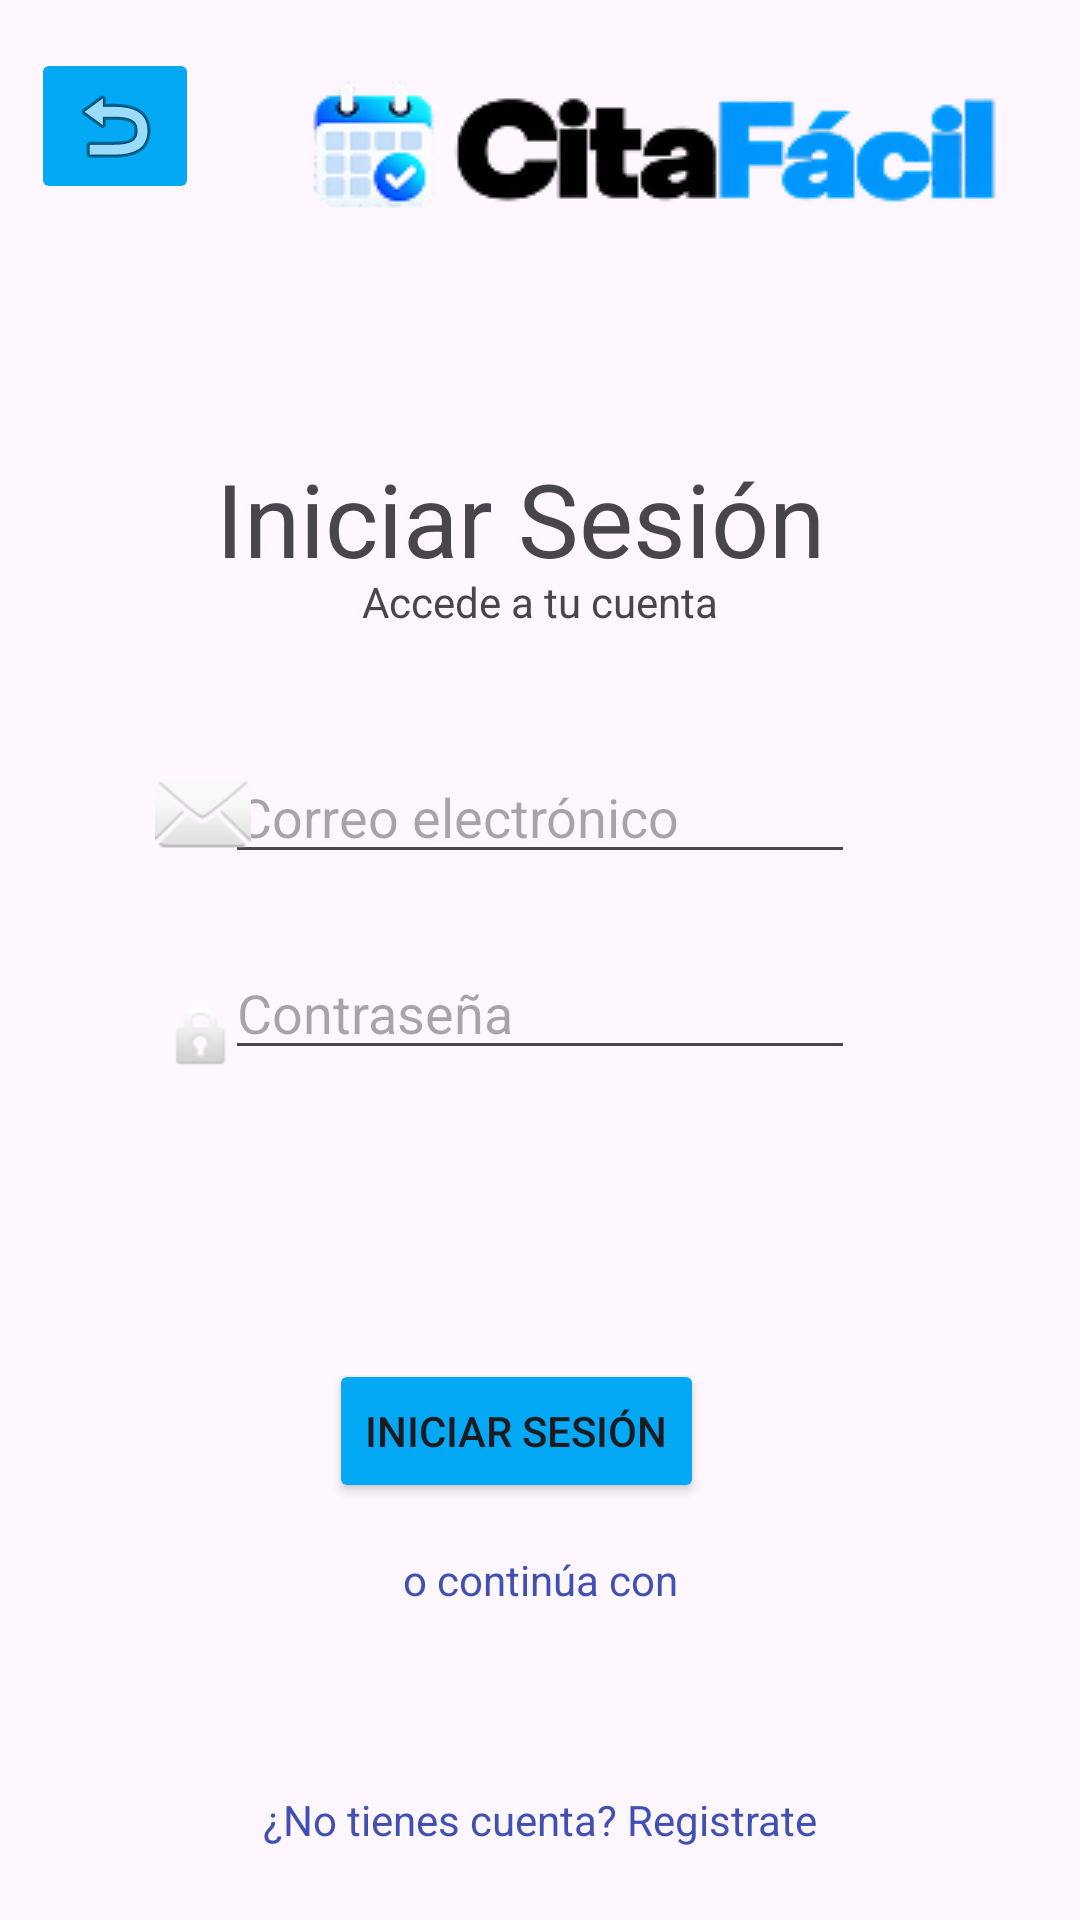

Where to tap for icons on this 1080 × 1920 app screen, as (x=x, y=y):
email: (x=203, y=816)
revert: (x=115, y=126)
